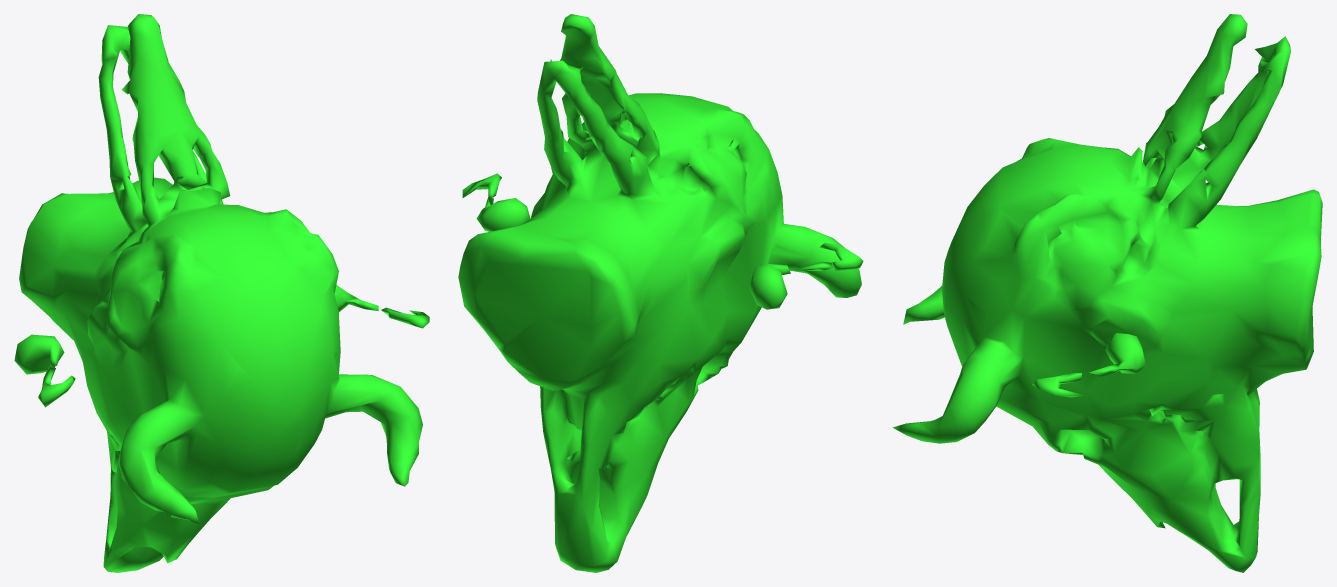
Rendered from Hideous1.obj.
3 renders of one model, left to right at view 1: azimuth 30°, elevation 25°; view 2: azimuth 150°, elevation 25°; view 3: azimuth 270°, elevation 25°, orthographic.
Parts seen in each view (by area): view 1: Hideous1; view 2: Hideous1; view 3: Hideous1.
Boxes of the visible parts, x1,y1,x2,y2 form: Hideous1: (14, 14, 429, 572); Hideous1: (458, 14, 863, 572); Hideous1: (892, 14, 1322, 572).
Bounding box in the file's own units: 0.739 × 1 × 0.702.
